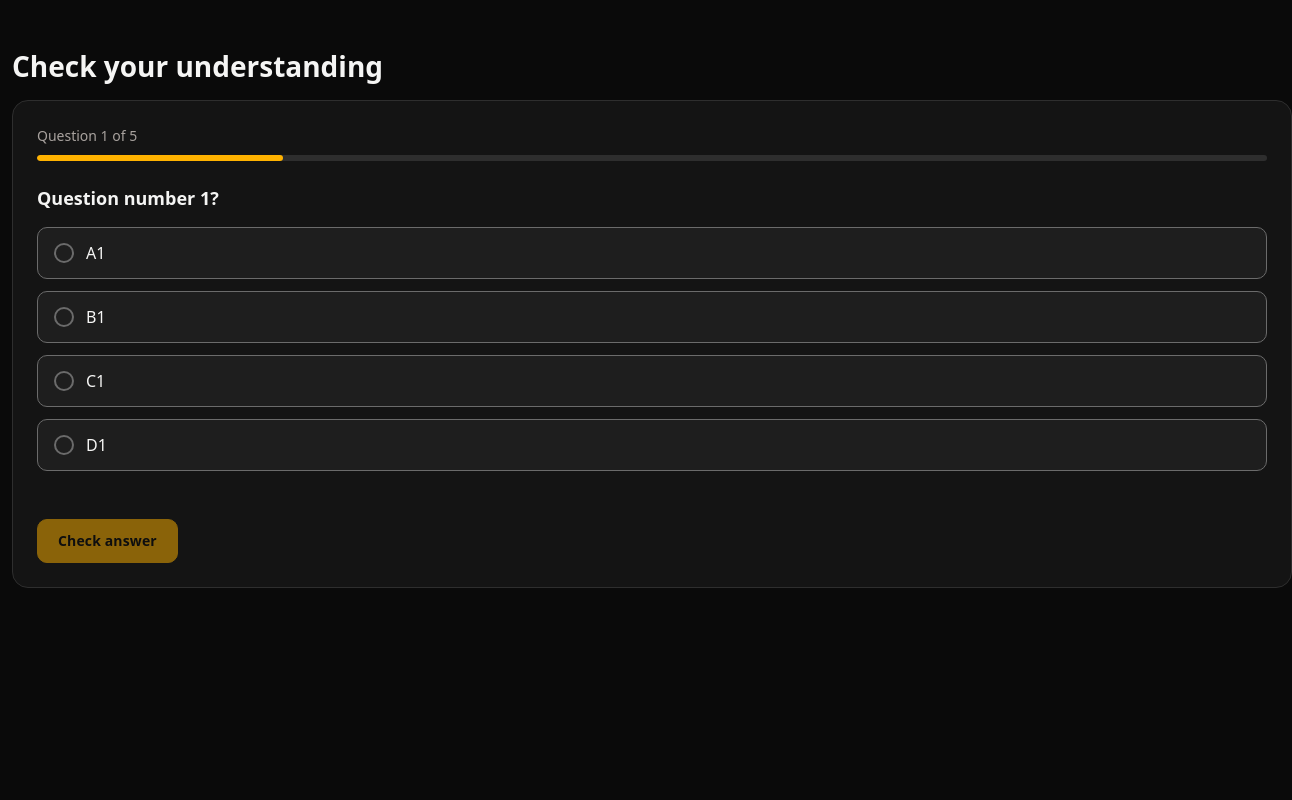
LessonQuiz › only lets you check once an option is picked
Expected: the button "Check answer" is disabled, [37,519,178,563]
Step 1. Click the radio button labelled "A1" → (64, 253), box [54,243,74,263]
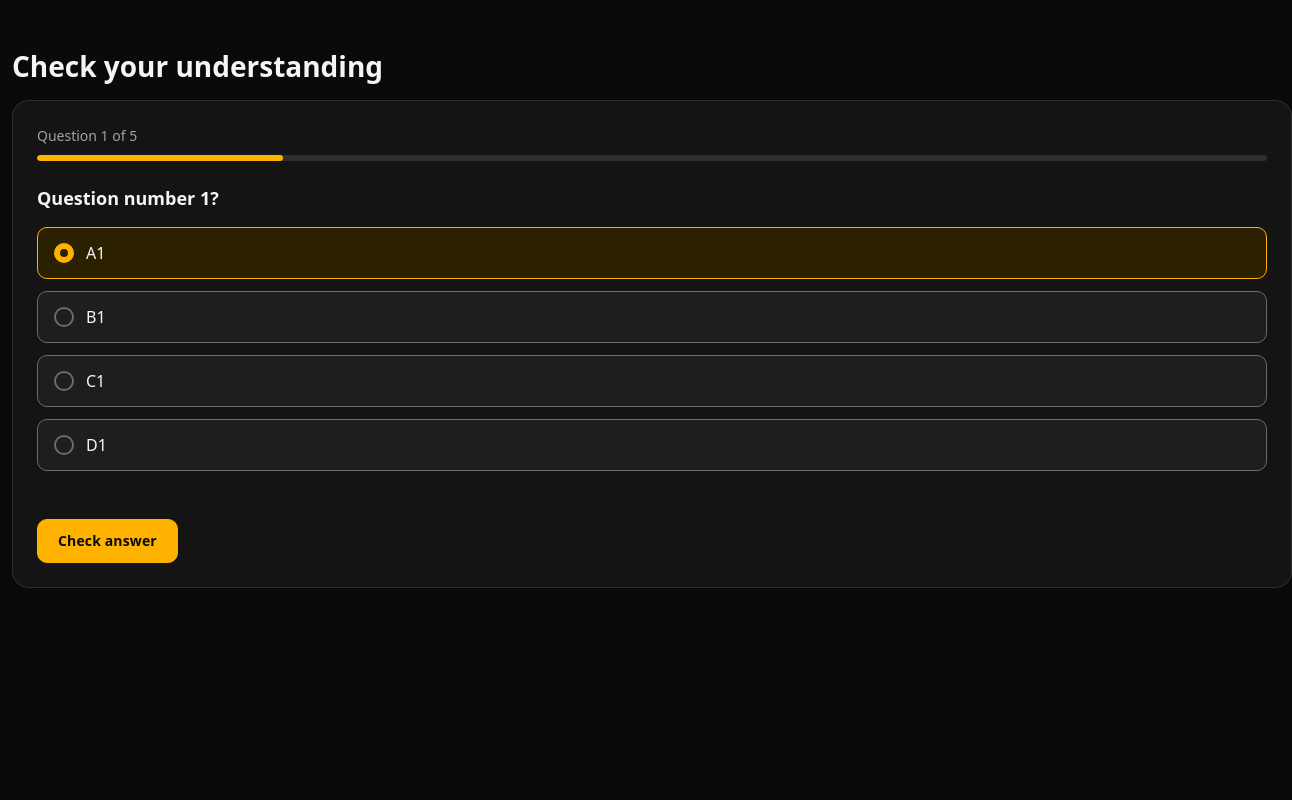
Result: the button "Check answer" is enabled at [37,519,178,563]
